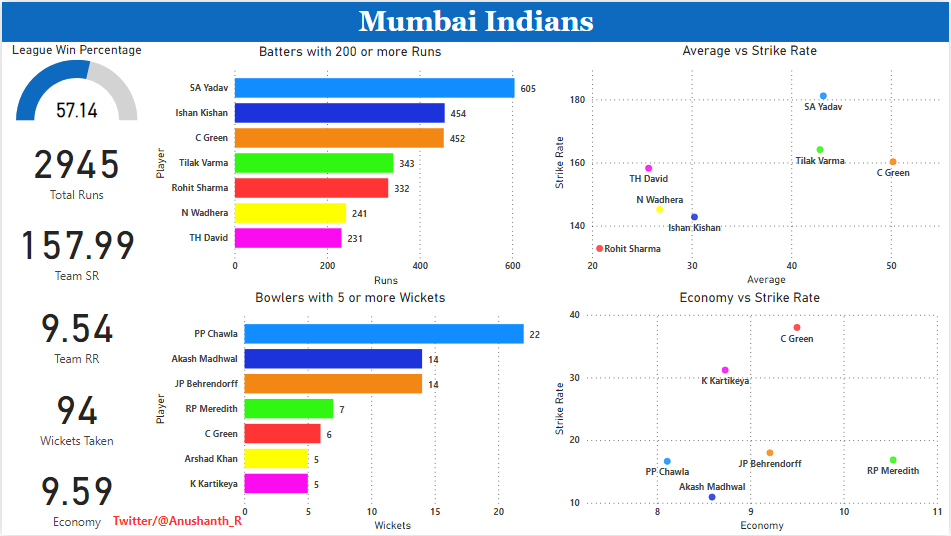

The dashboard page shown, as its layout file describes it:
{"tool":"powerbi","page":{"name":"MI","canvas":[1280,720],"ordinal":1},"visuals":[{"type":"textbox","box":[0,0,1280.5,54.1],"z":0},{"type":"scatterChart","title":"Average vs Strike Rate","fields":{"Category":["all_batters.Player"],"Y":["Sum(all_batters.SR)"],"X":["Sum(all_batters.Average)"],"Series":["all_batters.Player"]},"box":[740.5,54.1,540,333.7],"z":1000},{"type":"card","fields":{"Values":["Sum(teamwise_batting.Runs)"]},"box":[0,165.6,201.6,110.9],"z":2000},{"type":"card","fields":{"Values":["Sum(teamwise_batting.SR)"]},"box":[0,276.2,201.6,111.3],"z":3000},{"type":"card","fields":{"Values":["Sum(teamwise_batting.RR)"]},"box":[0,387.4,201.6,110.9],"z":4000},{"type":"card","fields":{"Values":["Sum(teamwise_bowling.Wickets)"]},"box":[0,498.2,201.6,111],"z":5000},{"type":"card","fields":{"Values":["Sum(teamwise_bowling.Economy)"]},"box":[0,607.7,201.6,111],"z":6000},{"type":"barChart","title":"Bowlers with 5 or more Wickets","fields":{"Category":["all_bowlers.Player"],"Y":["Sum(all_bowlers.Wickets)"],"Series":["all_bowlers.Player"]},"box":[202,387.8,538.5,332.2],"z":7000},{"type":"scatterChart","title":"Economy vs Strike Rate","fields":{"Category":["all_bowlers.Player"],"X":["Sum(all_bowlers.Economy)"],"Y":["Sum(all_bowlers.SR)"],"Series":["all_bowlers.Player"]},"box":[740.5,387.8,540,332.2],"z":8000},{"type":"gauge","title":"League Win Percentage","fields":{"Y":["Sum(matches_won.Win Percantage)"]},"box":[0,54.1,202,111],"z":9000},{"type":"barChart","title":"Batters with 200 or more Runs","fields":{"Category":["all_batters.Player"],"Y":["Sum(all_batters.Runs)"],"Series":["all_batters.Player"]},"box":[201.6,55,538,332.5],"z":10000},{"type":"textbox","box":[144.6,685.1,190.5,32.4],"z":11000}]}

Visuals, with their boxes in screenshot pixels (x1, y1, x2, y2), scaled from the page's 1280x720 canvas onto the 951x536 screenshot:
textbox: (0,0,950,40)
"Average vs Strike Rate" scatterChart: (550,40,950,289)
card - Sum(teamwise_batting.Runs): (0,123,150,206)
card - Sum(teamwise_batting.SR): (0,206,150,288)
card - Sum(teamwise_batting.RR): (0,288,150,371)
card - Sum(teamwise_bowling.Wickets): (0,371,150,454)
card - Sum(teamwise_bowling.Economy): (0,452,150,535)
"Bowlers with 5 or more Wickets" barChart: (150,289,550,535)
"Economy vs Strike Rate" scatterChart: (550,289,950,535)
"League Win Percentage" gauge: (0,40,150,123)
"Batters with 200 or more Runs" barChart: (150,41,549,288)
textbox: (107,510,249,534)
